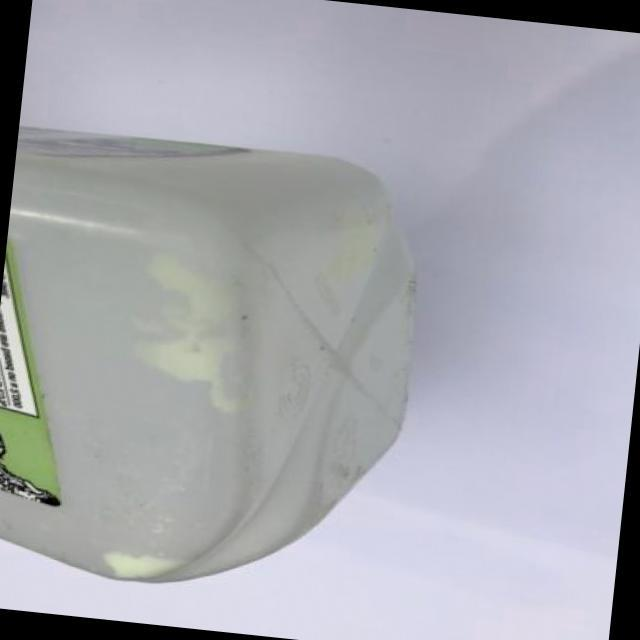HDPE Plastic: (2, 126, 416, 584)
